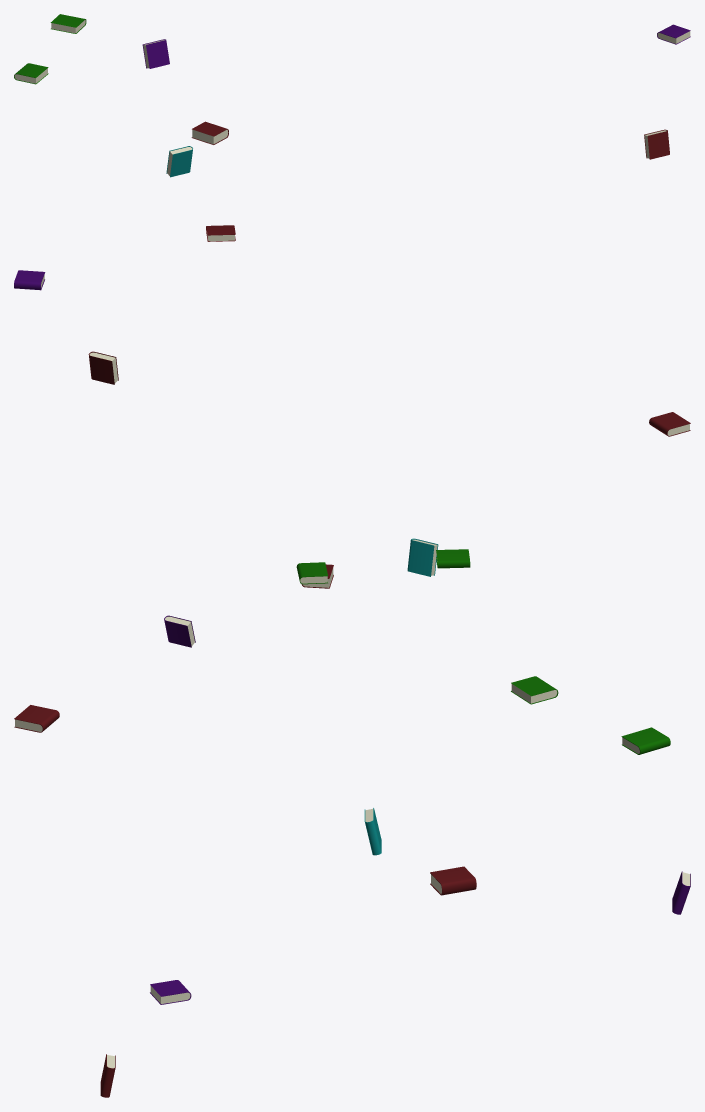
The model's file is books_03.glb.
3 renders of one model, top to bottom at view 1: azimuth 30°, elevation 25°; view 2: azimuth 150°, elevation 25°; view 3: azimuth 270°, elevation 25°, orthographic. The views are drawn at different scales.
Visible parts, largest first — view 1: Cube.503, Cube.502, Cube.505, Cube.504, Cube.499, Cube.506, Cube.500, Cube.501; view 2: Cube.503, Cube.502, Cube.505, Cube.500, Cube.506, Cube.499; view 3: Cube.504, Cube.499, Cube.506, Cube.500, Cube.501.
Part boxes in pixels (left/top/right/bottom): Cube.503: left=166, top=146, right=192, bottom=177; Cube.502: left=644, top=129, right=669, bottom=159; Cube.505: left=142, top=39, right=169, bottom=68; Cube.504: left=191, top=121, right=228, bottom=144; Cube.499: left=50, top=14, right=86, bottom=33; Cube.506: left=14, top=63, right=48, bottom=84; Cube.500: left=206, top=225, right=235, bottom=241; Cube.501: left=657, top=24, right=690, bottom=44; Cube.503: left=407, top=538, right=438, bottom=576; Cube.502: left=88, top=351, right=118, bottom=384; Cube.505: left=164, top=615, right=195, bottom=647; Cube.500: left=649, top=412, right=690, bottom=436; Cube.506: left=436, top=549, right=470, bottom=568; Cube.499: left=296, top=562, right=327, bottom=584; Cube.504: left=430, top=866, right=476, bottom=895; Cube.499: left=621, top=727, right=670, bottom=754; Cube.506: left=511, top=676, right=558, bottom=704; Cube.500: left=14, top=705, right=59, bottom=732; Cube.501: left=150, top=980, right=191, bottom=1004.
Size of the model in its own units: 3.31 by 0.5803 by 2.75.
